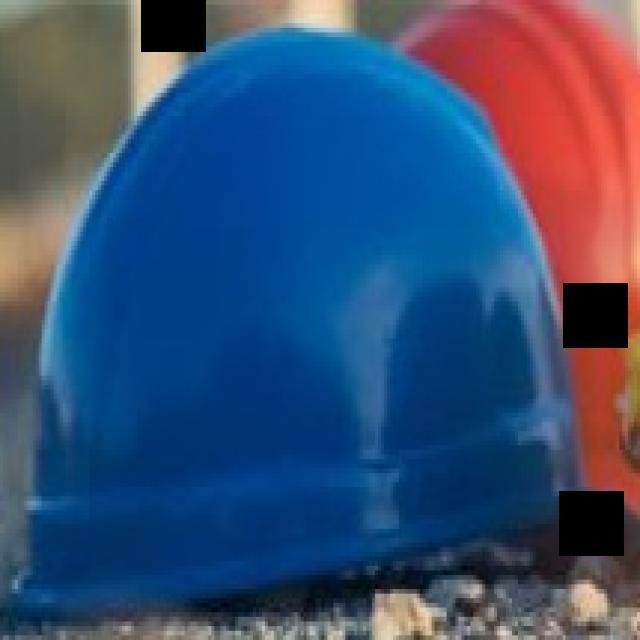blue helmet: (1, 30, 608, 635)
red helmet: (393, 3, 640, 540)
